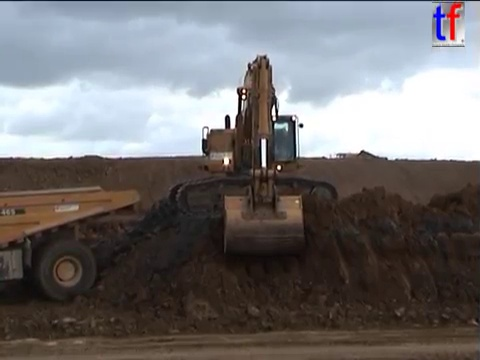excavator: (166, 51, 340, 256)
truck: (1, 182, 143, 303), (327, 150, 389, 172)
